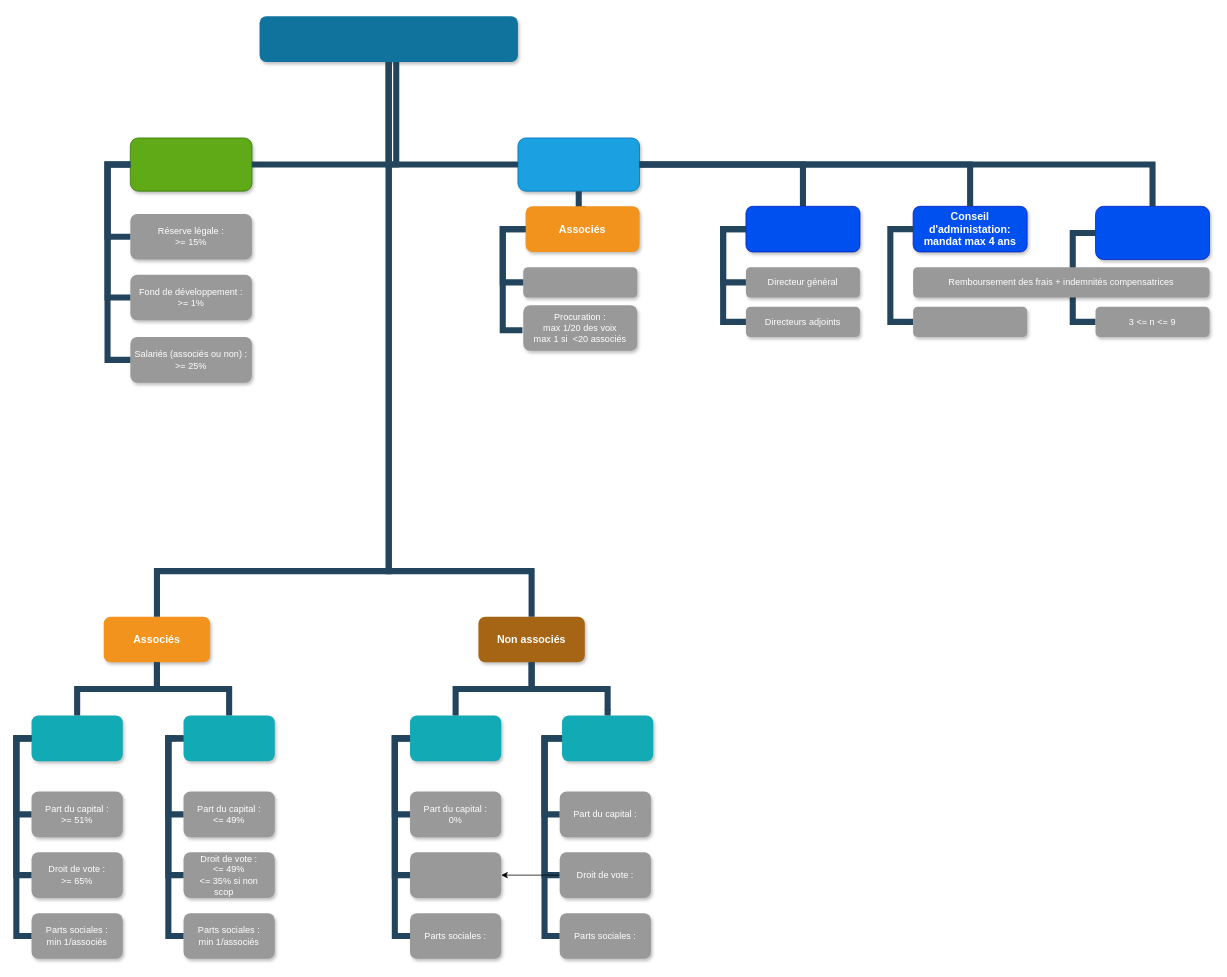
This 1227x977 diagram has some shape labels left out. The shapes that lost their labels are listed below. From the top down, each one's centre as x and y in pixels, then its label:
the point at 389,40: ft_scop hypothèse : SAS
the point at 191,165: Répartition des bénęfices :
the point at 579,165: Assemblée générale 1 / an
the point at 803,230: Direction : mandat max 4 ans
the point at 1153,234: Conseil de surveillance Si associés > 20 : mandat max 4 ans
the point at 580,283: 1 associé = 1 voix
the point at 970,322: Gérant
the point at 77,739: Employés : >= 2
the point at 229,739: Non employés : - personnes physiques - personne morale
the point at 456,739: Employés
the point at 608,739: Personnes physiques ou morales
the point at 456,876: Droit de vote : 0
